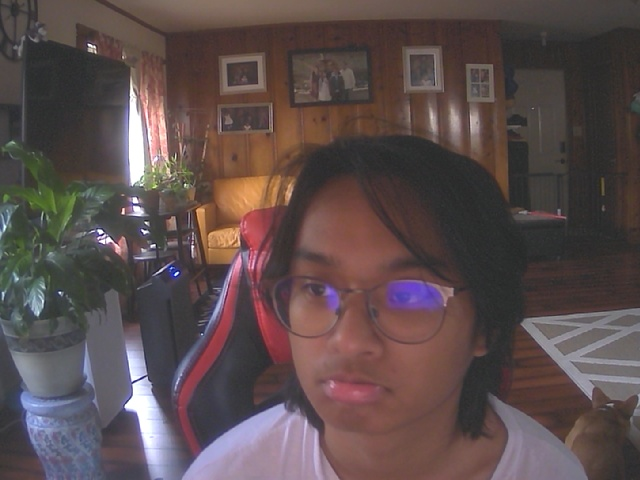sad: (256, 133, 506, 440)
